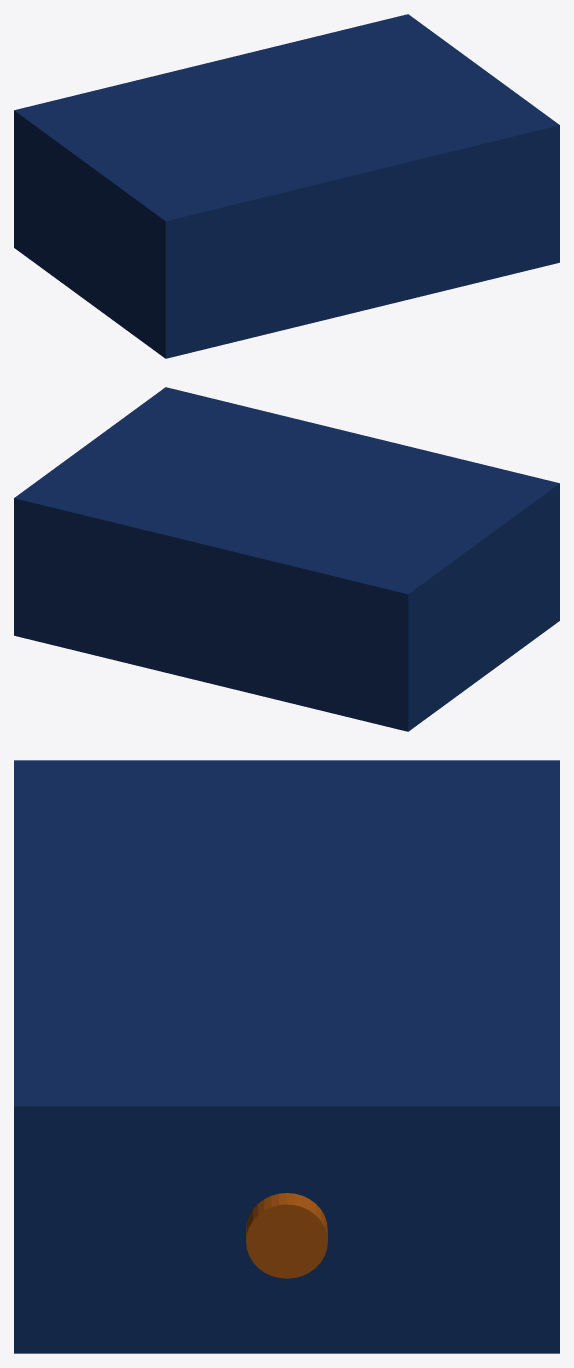
The picture shows the model from 3 angles, top to bottom: view 1: azimuth 30°, elevation 25°; view 2: azimuth 150°, elevation 25°; view 3: azimuth 270°, elevation 25°; orthographic projection. The views are drawn at different scales.
Parts seen in each view (by area): view 1: enclosure; view 2: enclosure; view 3: enclosure, port.
Part boxes in pixels (x1=…): enclosure: x1=14, y1=14, x2=559, y2=358; enclosure: x1=14, y1=387, x2=559, y2=731; enclosure: x1=14, y1=760, x2=559, y2=1353; port: x1=246, y1=1193, x2=327, y2=1278.
Size of the model in its own units: 124 by 40 by 80.
